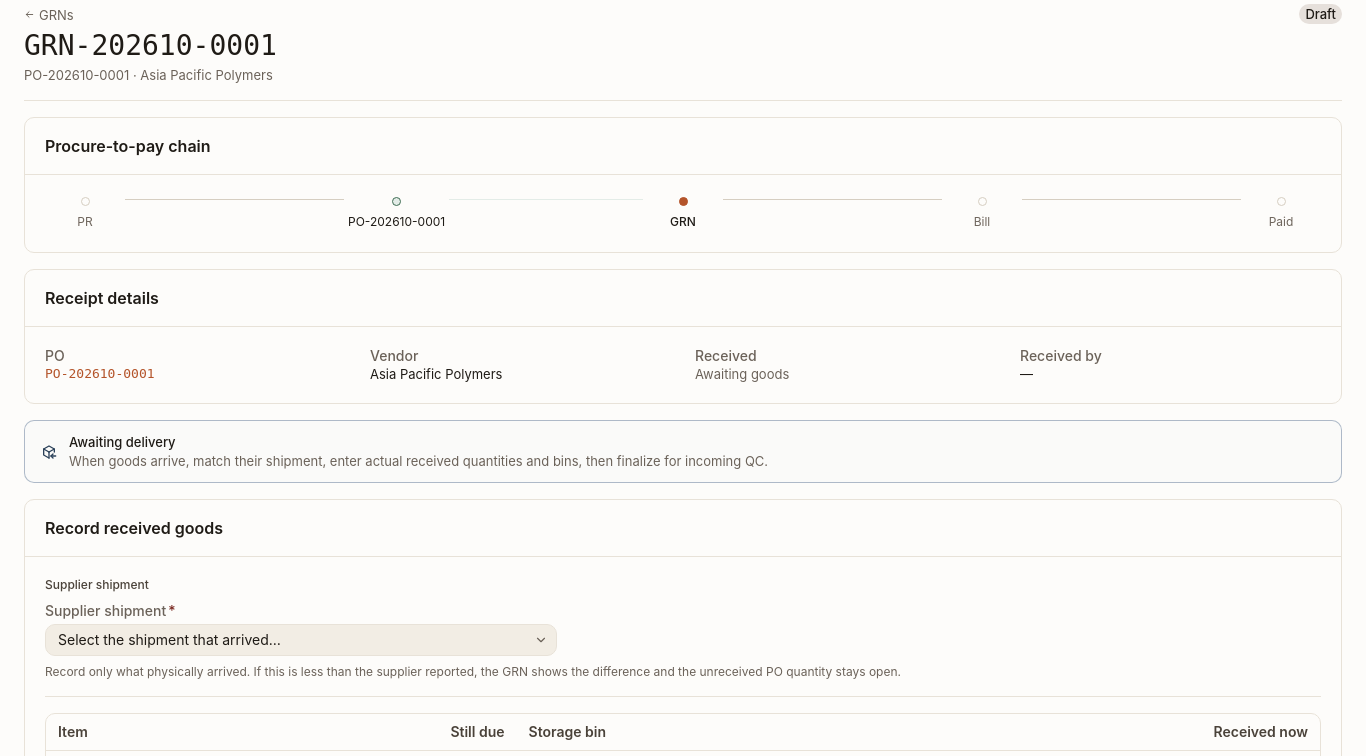
it: requires the warehouse to choose which shipment arrived when the supplier sent more than one
The image size is (1366, 756).
Select "Shipment 2 · Oct 8, 2026 · Quantity not recorded dispatched" in the dropdown labelled "Supplier shipment*" at (301, 640), box [46, 625, 556, 655]
(page scrolled)
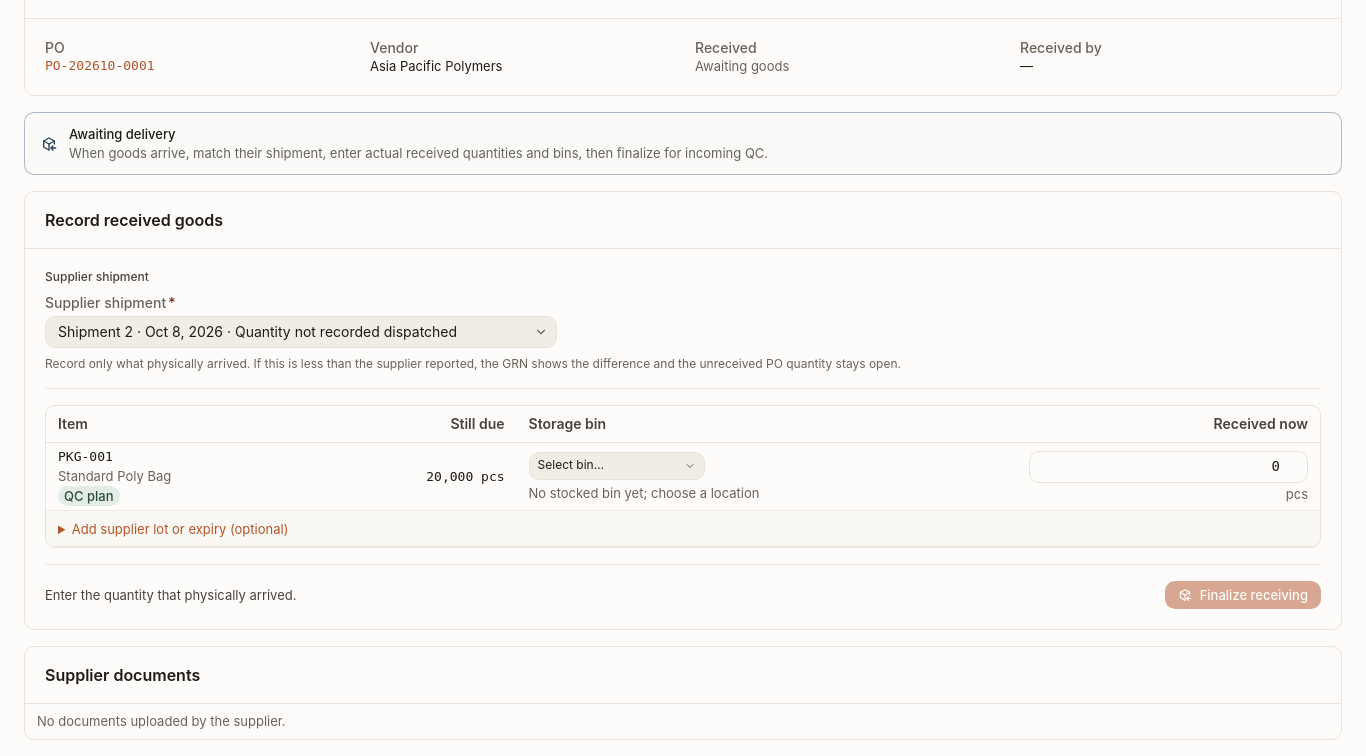
Now the message shows "Enter the quantity that physically arrived", box [45, 587, 296, 603]
